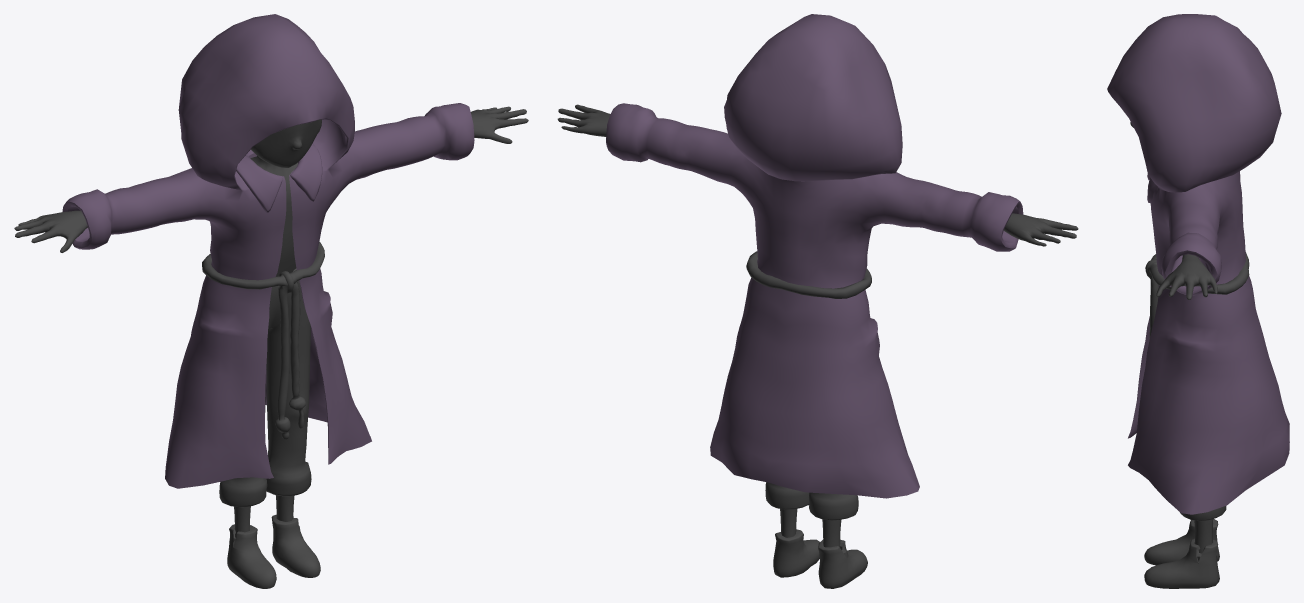
3 views of the same model, side by side, from view 1: azimuth 30°, elevation 25°; view 2: azimuth 150°, elevation 25°; view 3: azimuth 270°, elevation 25° (orthographic).
Parts seen in each view (by area): view 1: Sobretodo_Low, Pantalon_Low, Cordon_Low, Botitas_Low, Manos_Low, Solapa_Low, Cuerpo_Low, Cabeza_Low; view 2: Sobretodo_Low, Botitas_Low, Manos_Low, Pantalon_Low, Cordon_Low, Cuerpo_Low; view 3: Sobretodo_Low, Botitas_Low, Manos_Low, Cordon_Low, Cuerpo_Low, Pantalon_Low.
Boxes of the visible parts, x1,y1,x2,y2 form: Sobretodo_Low: (62,14,474,488); Pantalon_Low: (219,268,311,507); Cordon_Low: (202,242,324,439); Botitas_Low: (227,514,320,588); Manos_Low: (14,106,528,252); Solapa_Low: (236,143,322,212); Cuerpo_Low: (234,156,297,542); Cabeza_Low: (251,119,321,167); Sobretodo_Low: (606,14,1023,498); Botitas_Low: (773,529,867,588); Manos_Low: (557,104,1078,246); Pantalon_Low: (765,482,858,520); Cordon_Low: (746,251,871,298); Cuerpo_Low: (780,508,841,547); Sobretodo_Low: (1107,14,1289,514); Botitas_Low: (1144,519,1219,588); Manos_Low: (1156,254,1217,299); Cordon_Low: (1145,252,1249,338); Cuerpo_Low: (1194,519,1213,563); Pantalon_Low: (1180,506,1226,521).
Bounding box in the file's own units: 1.54 × 1.57 × 0.4703.
